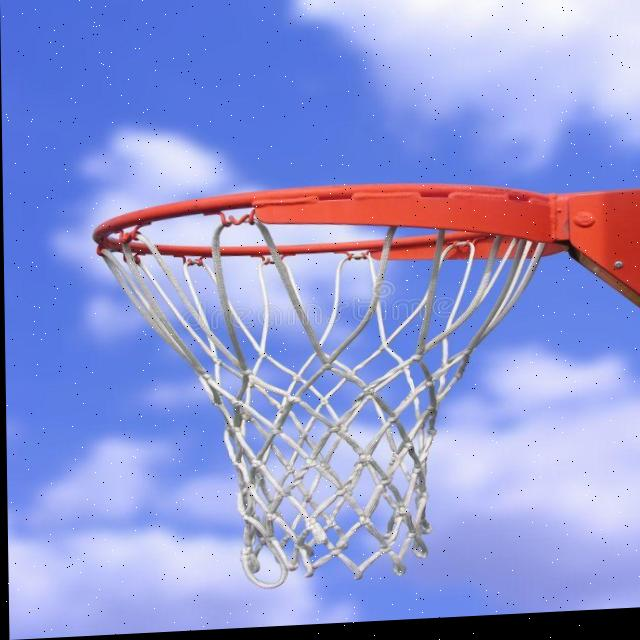hoop: (45, 152, 640, 621)
